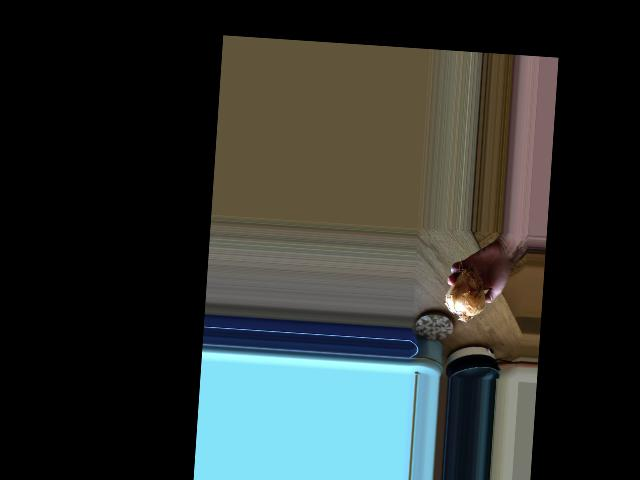onion: (442, 262, 488, 321)
